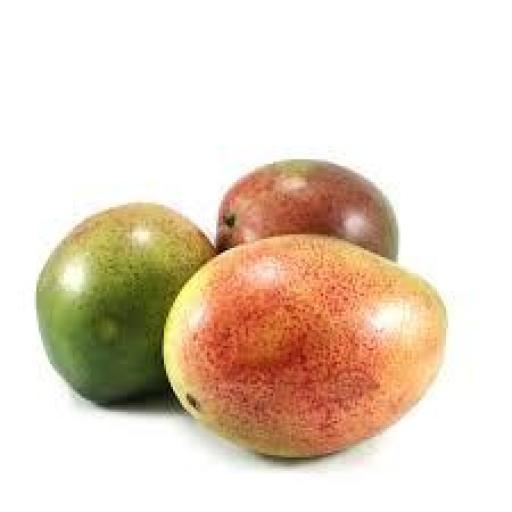mango: (164, 235, 446, 457), (37, 203, 213, 402), (217, 160, 398, 259)
